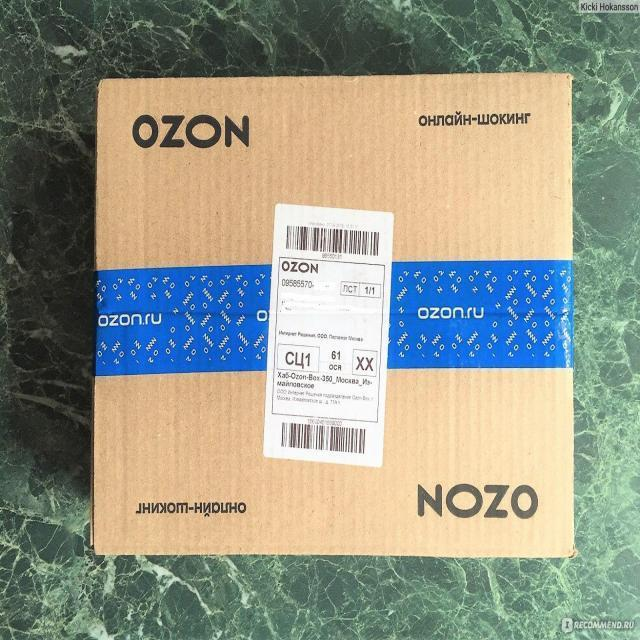box: (88, 75, 578, 564)
